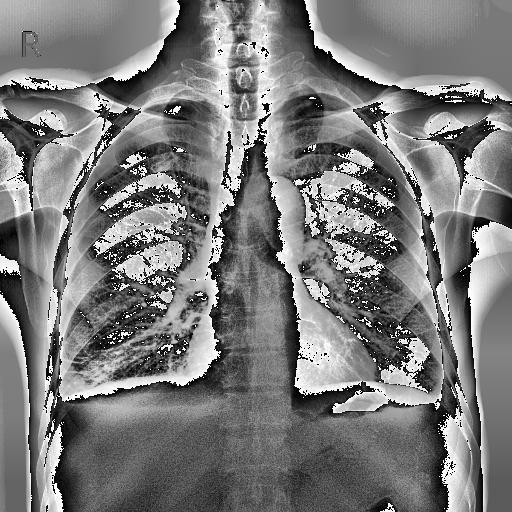0- Aortic enlargement: (242, 176, 306, 240)
10- Pleural effusion: (411, 374, 460, 418), (40, 384, 86, 418), (434, 362, 458, 416), (46, 390, 73, 418), (52, 376, 70, 418), (426, 380, 448, 405)
11- Pleural thickening: (434, 362, 458, 416), (52, 376, 70, 418), (46, 390, 73, 418), (426, 380, 448, 405), (308, 92, 348, 104), (146, 98, 190, 107)
13- Pulmonary fibrosis: (58, 354, 102, 390), (60, 341, 84, 388), (161, 268, 211, 282), (398, 325, 438, 338), (64, 356, 86, 376)
